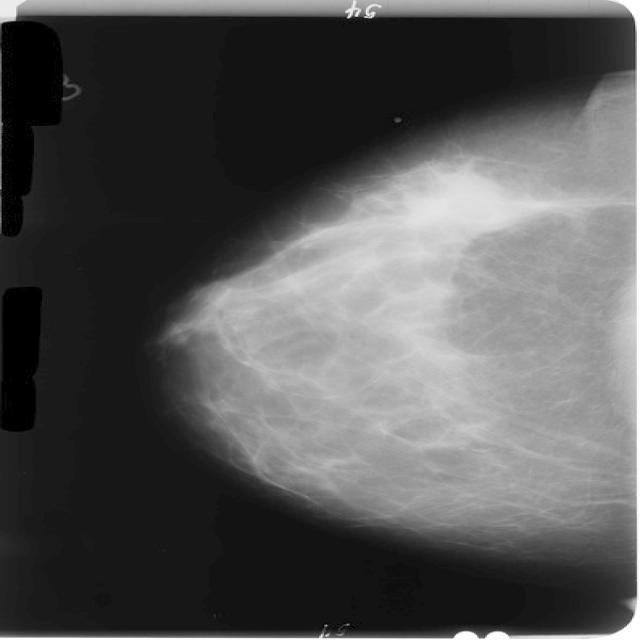tumour: (392, 170, 516, 233)
